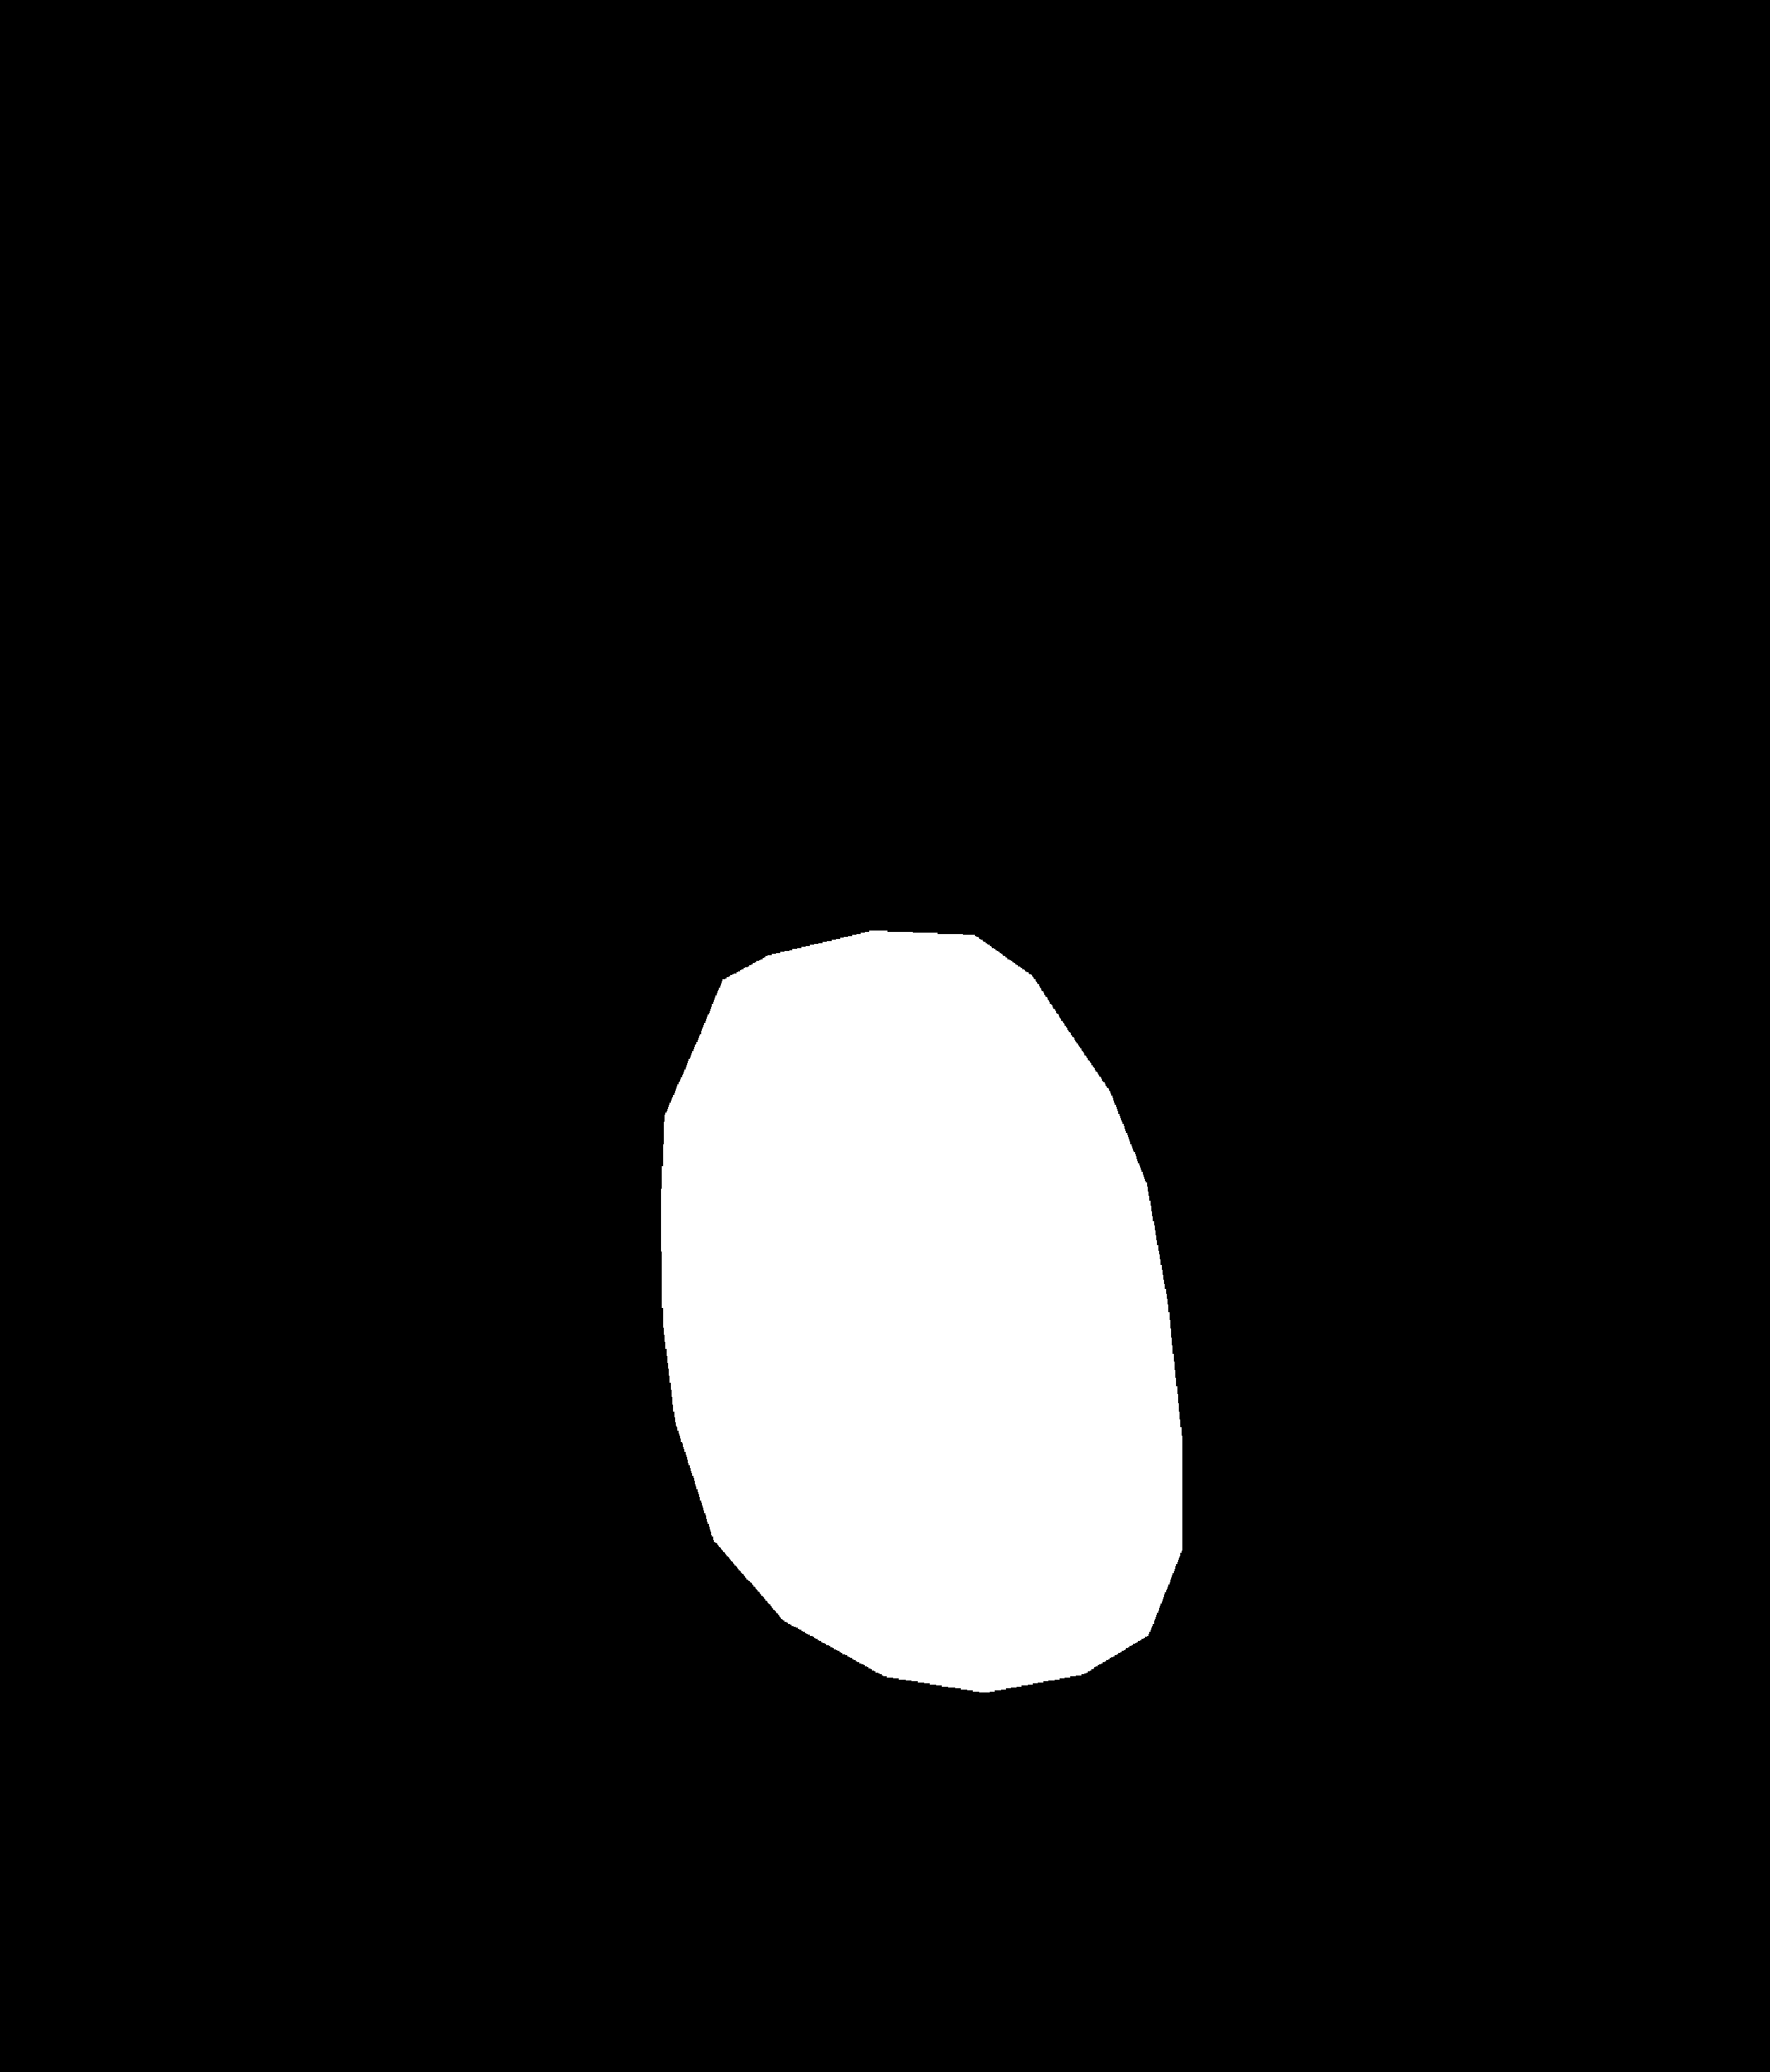heart: (657, 1008, 1184, 1696)
left_lung: (190, 181, 748, 1781)
right_lung: (934, 237, 1614, 1944)
